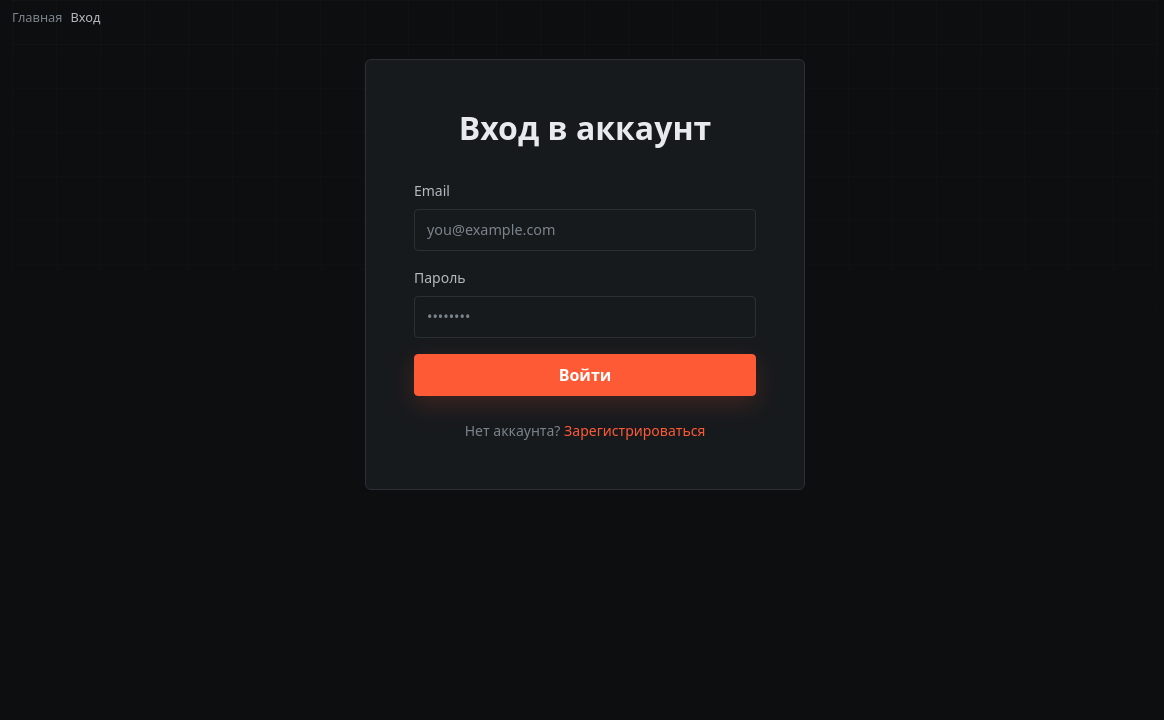
LoginPage › handles 403 blocked account response
Type "blocked@example.com" into the field labelled "Email" at {"x": 585, "y": 230}, box [414,209,756,251]
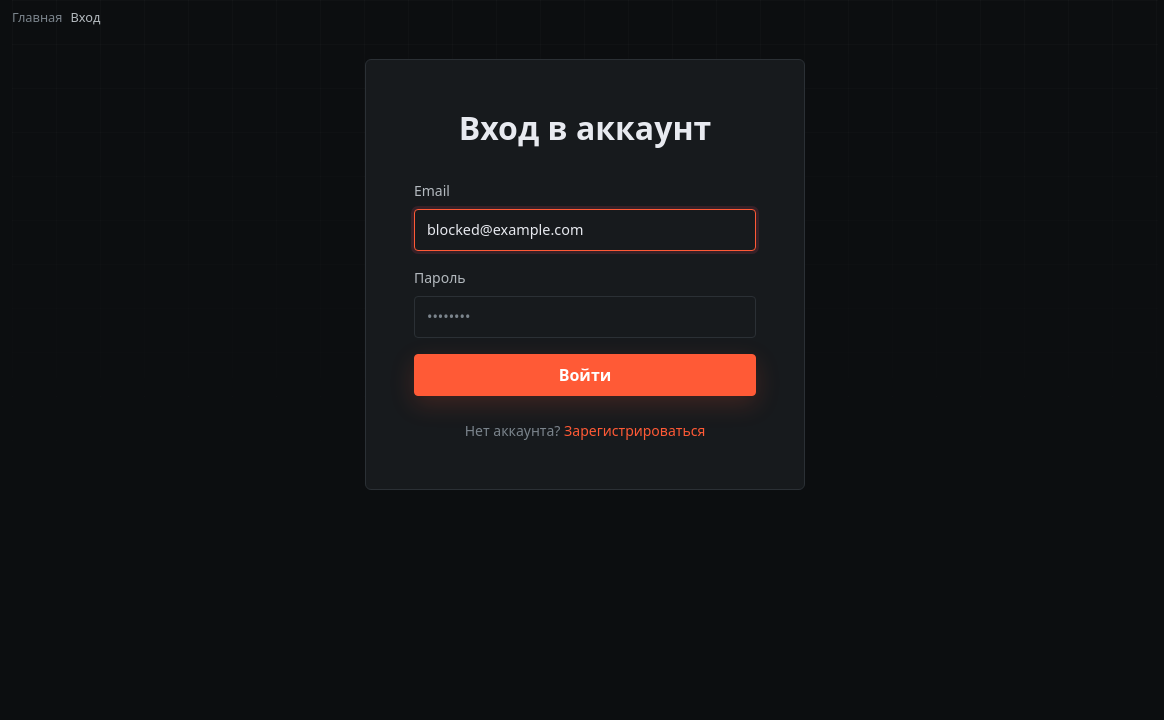
Type "Secret123" into the password field labelled "Пароль" at {"x": 585, "y": 317}, box [414,296,756,338]
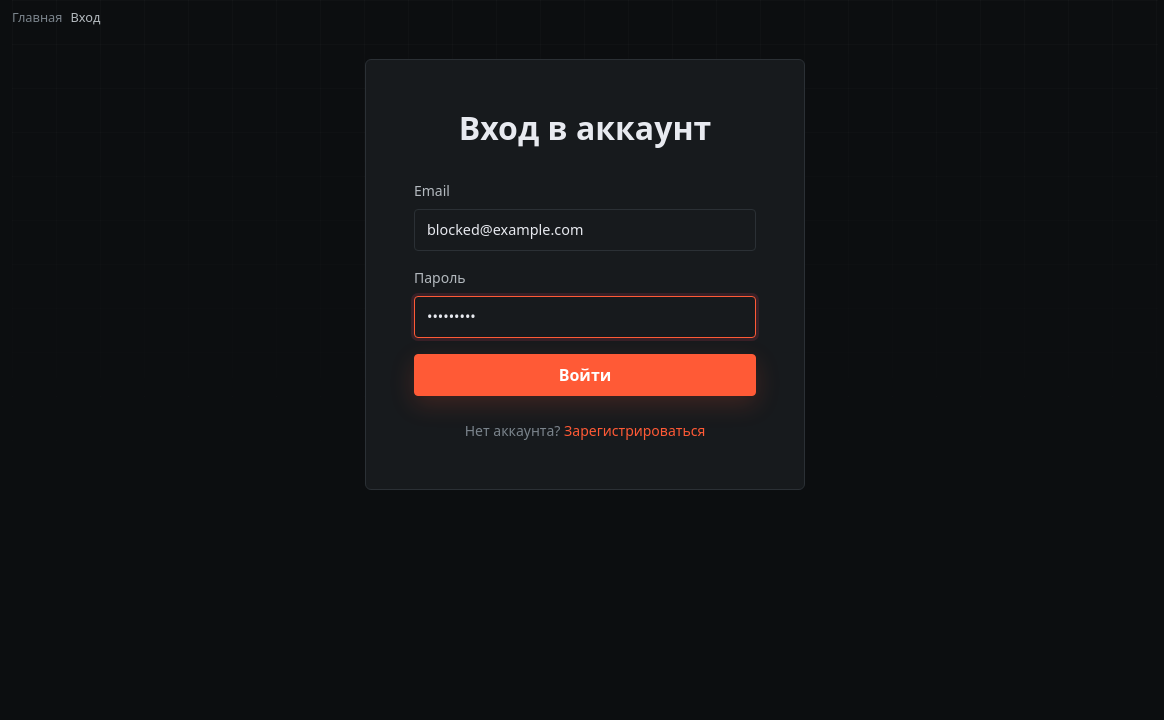
Click the button at {"x": 585, "y": 375}, box [414,354,756,396]
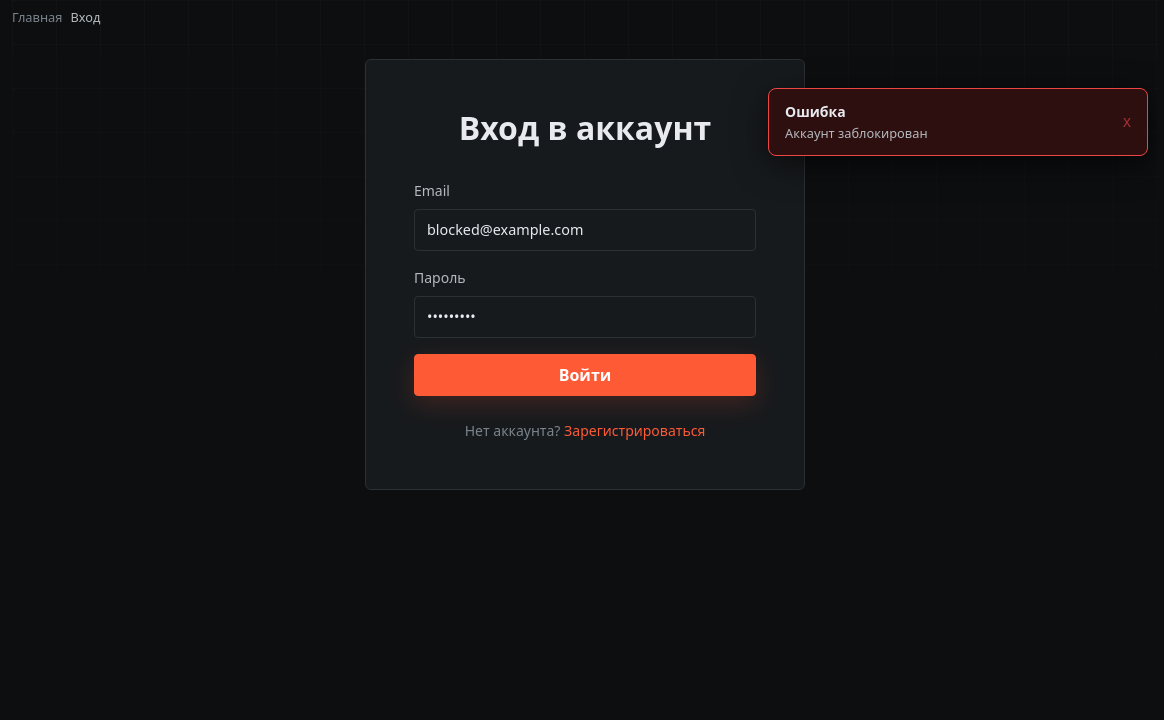
Result: the text "Аккаунт заблокирован" is shown at [785,124,928,142]
